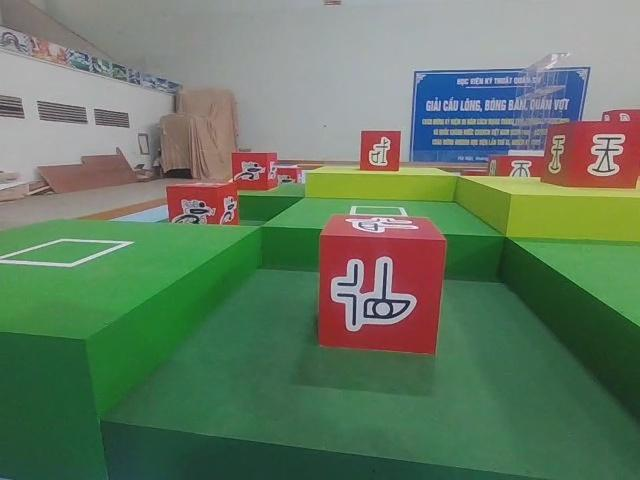R1: (166, 174, 240, 233), (229, 149, 280, 195)
R2 Real: (315, 209, 446, 359), (544, 122, 640, 198), (354, 128, 405, 175)
